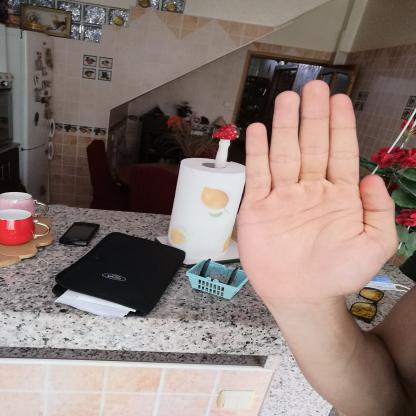SEEN: (225, 70, 410, 314)
